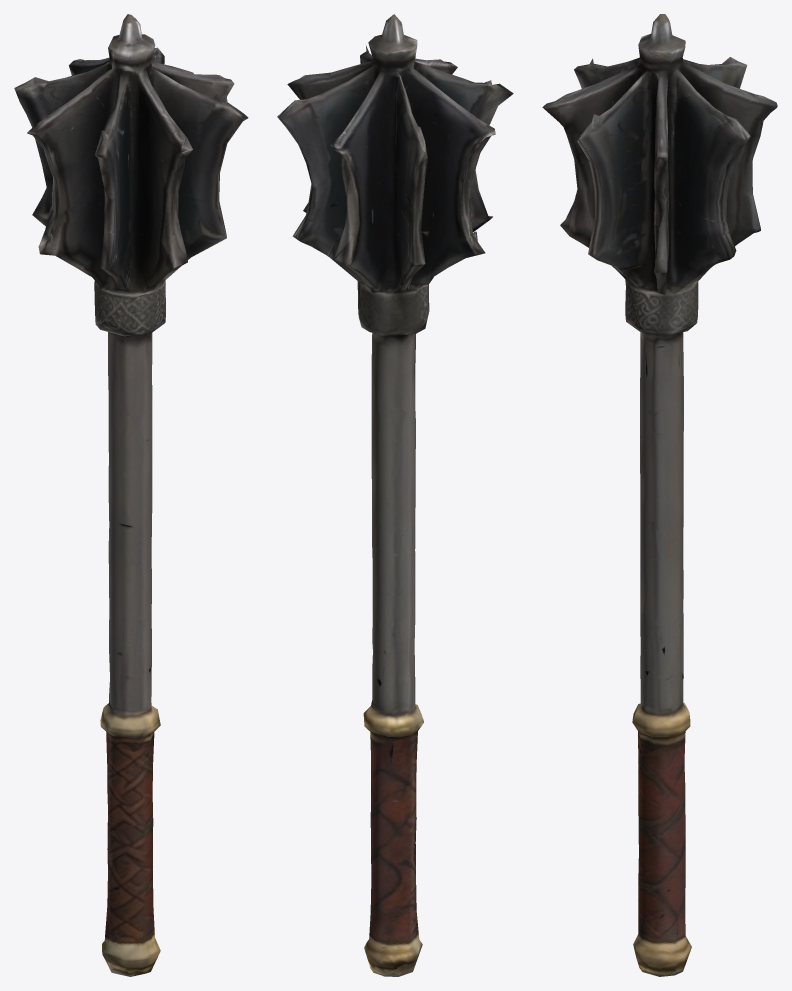
Rendered from 1462_mace.glb.
The picture shows the model from 3 angles, left to right: view 1: azimuth 30°, elevation 25°; view 2: azimuth 150°, elevation 25°; view 3: azimuth 270°, elevation 25°; orthographic projection.
Parts seen in each view (by area): view 1: Model; view 2: Model; view 3: Model.
Boxes of the visible parts, <box> form: Model: <box>14,14,248,976</box>; Model: <box>277,14,513,976</box>; Model: <box>542,14,777,976</box>.
Bounding box in the file's own units: 0.2266 × 1 × 0.2237.
Materials: 1 (1 with a texture image).
